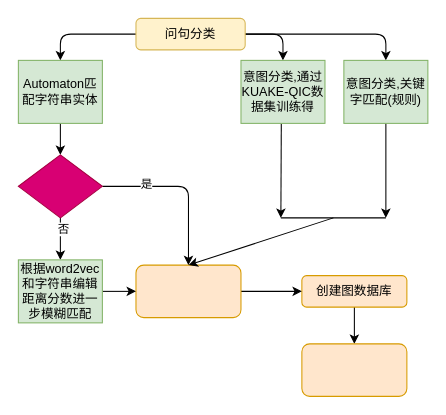
This 446x415 diagram has some shape labels left out. Here are the shapes that lost their labels. From the top down, the centre of each, then its label:
At (59,186): "是否匹配?".
At (188,291): "根据问句生成对应的CQL查询语句".
At (354,369): "CQL查询语句neo4j搜索并输出对应的答案".
